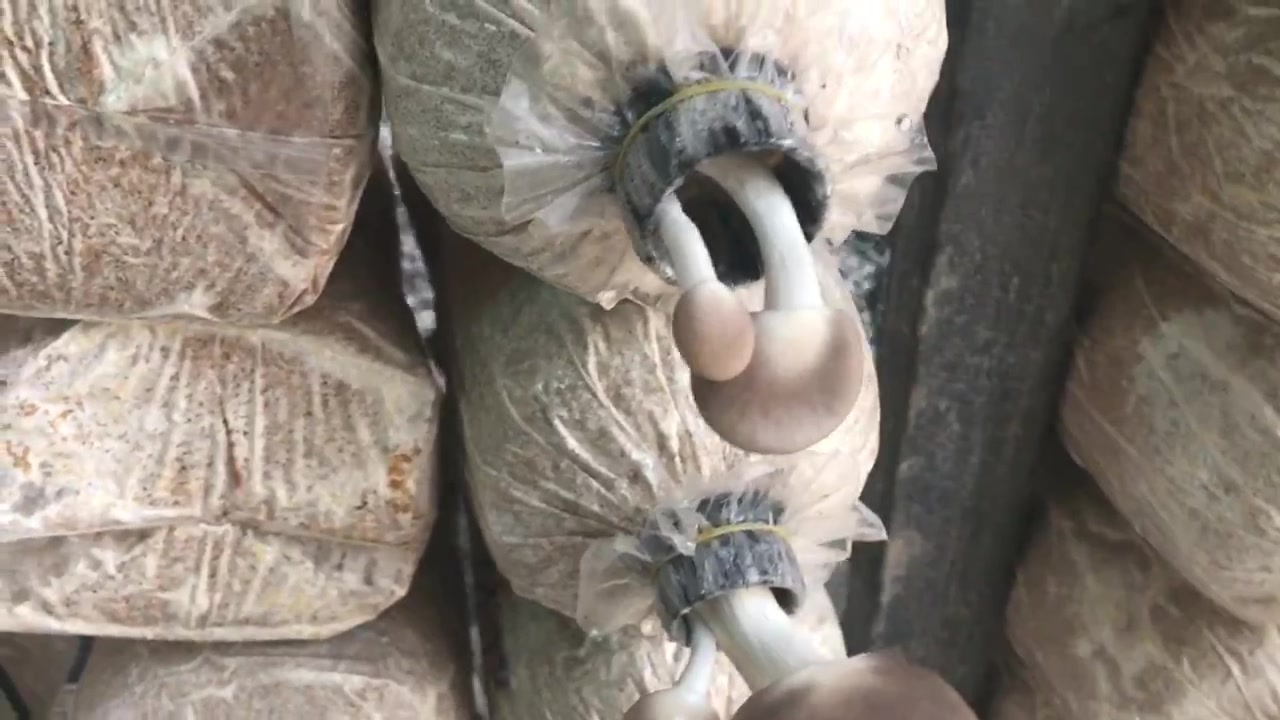nam: (618, 79, 863, 451), (628, 524, 973, 719)
